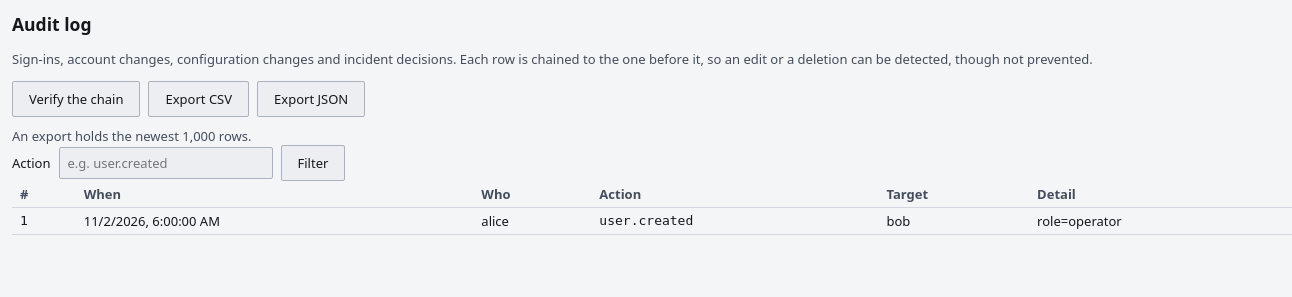
Scenario: audit log › reports an intact chain, and a broken one by the row where it broke
The image size is (1292, 297).
Click the button "Verify the chain" at (76, 99), box x1=12 y1=81 x2=140 y2=117
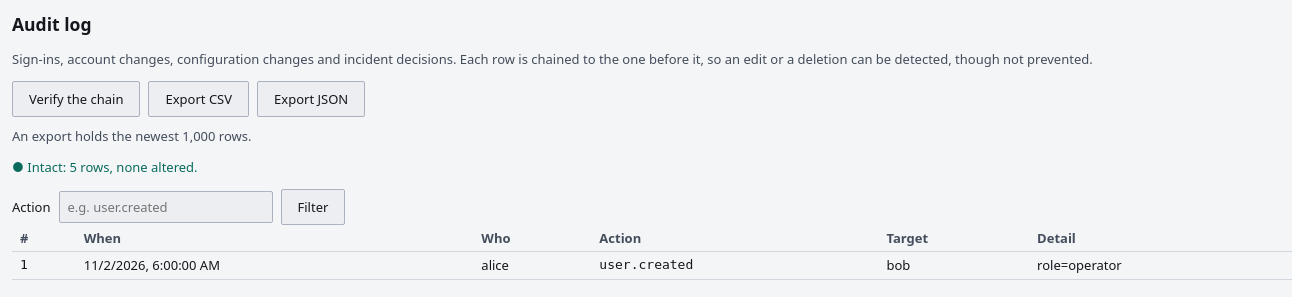
Expected: the text "Intact: 5 rows, none altered." is shown, x1=27 y1=158 x2=198 y2=176
Click the button "Verify the chain" at (76, 99), box x1=12 y1=81 x2=140 y2=117
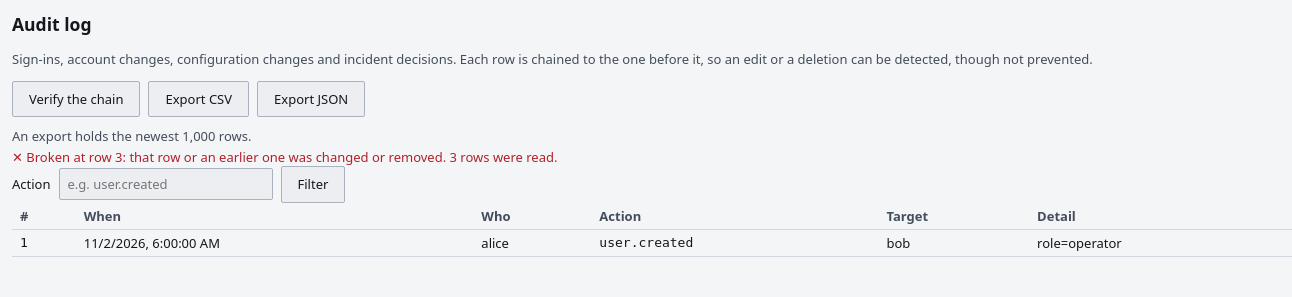
Expected: the text "Broken at row 3" is shown, x1=26 y1=148 x2=558 y2=166
